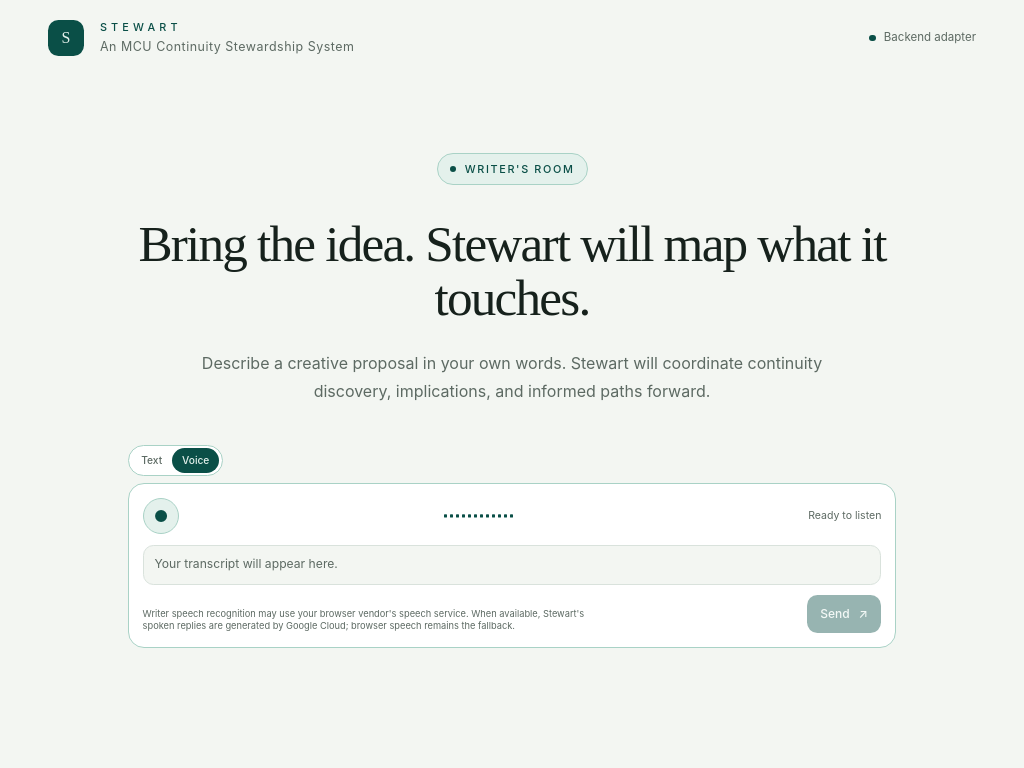
Test: Writer's Room Voice Mode › defaults to Voice when available without requesting microphone access and preserves the session across mode switches
Click the radio button labelled "Text" at [152, 460], box [131,448,172,472]
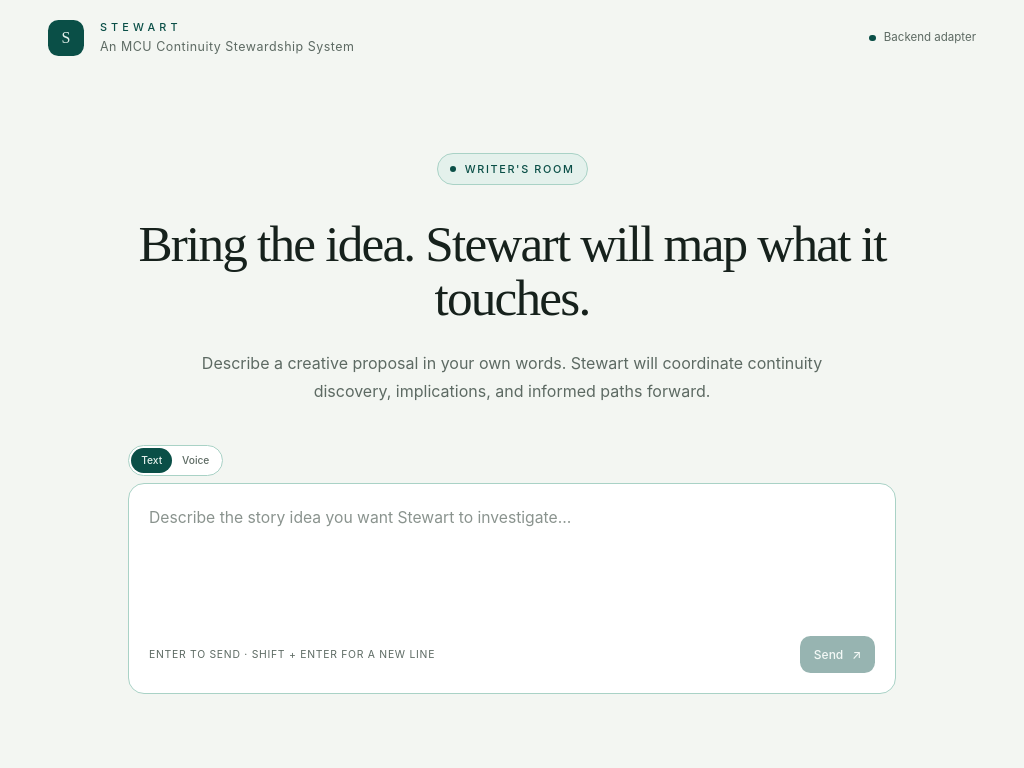
expect the radio button labelled "Text" is checked: met, box [131,448,172,472]
Type "A continuing proposal" into the text box with placeholder "Describe the story idea you want Stewart to investigate…" at [512, 559], box [149,504,875,614]
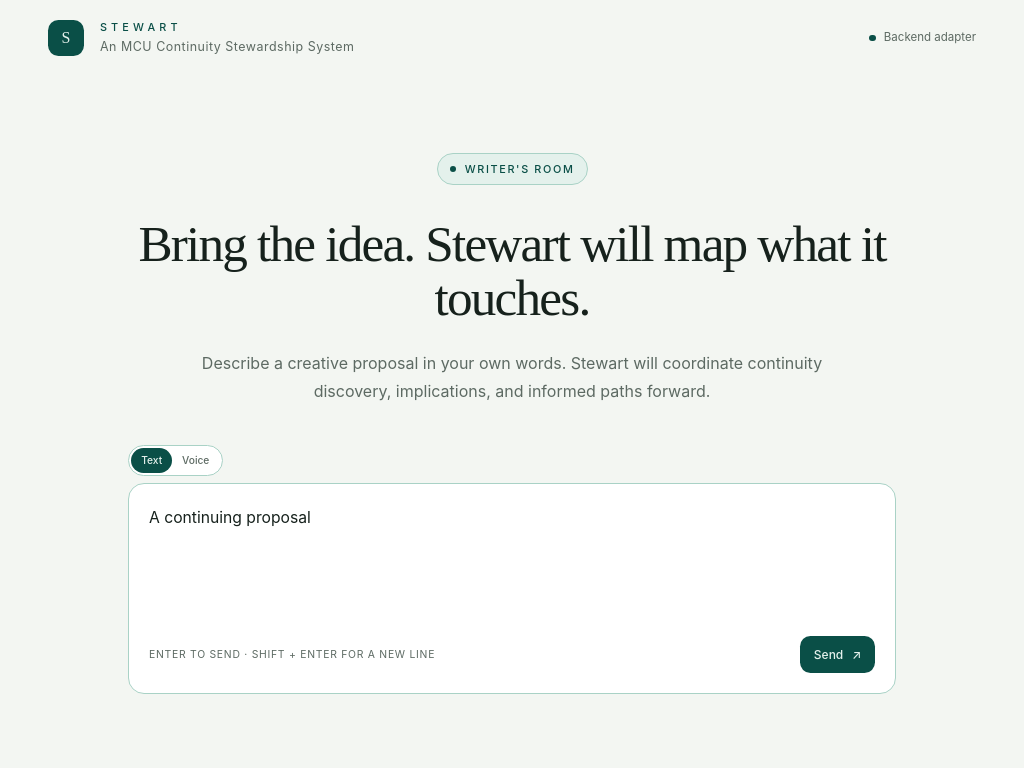
Click the button with aria-label "Send proposal to Stewart" at [838, 654], box [800,636,875,673]
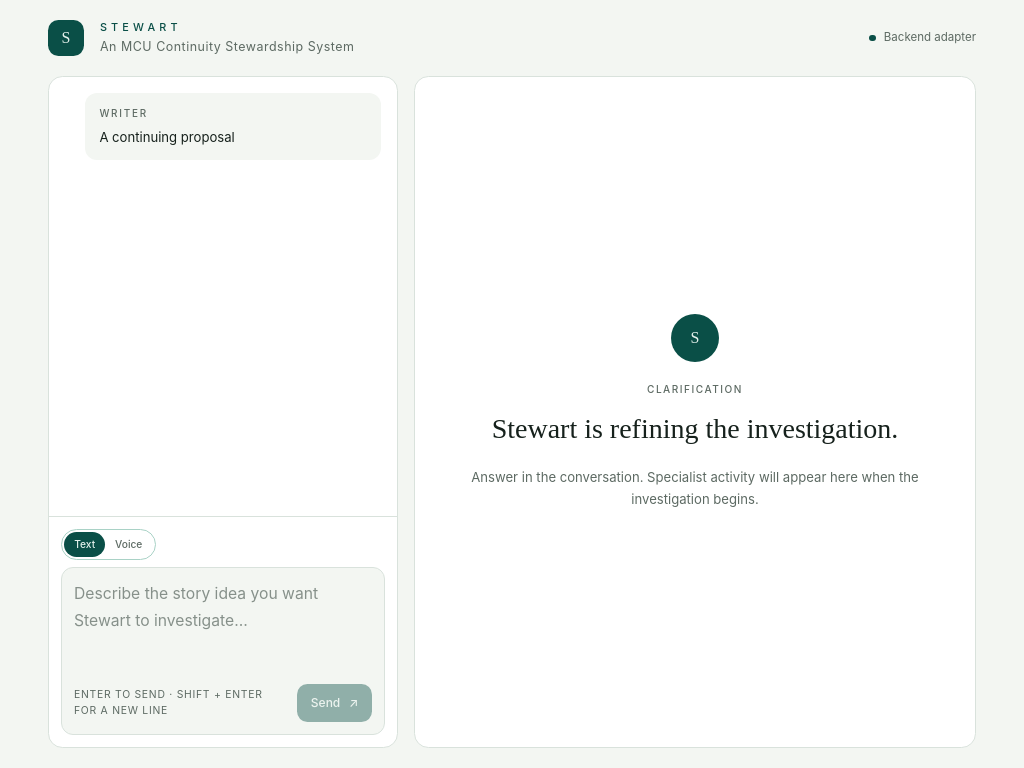
expect the text "A continuing proposal" is shown: met, box [99,129,235,145]
